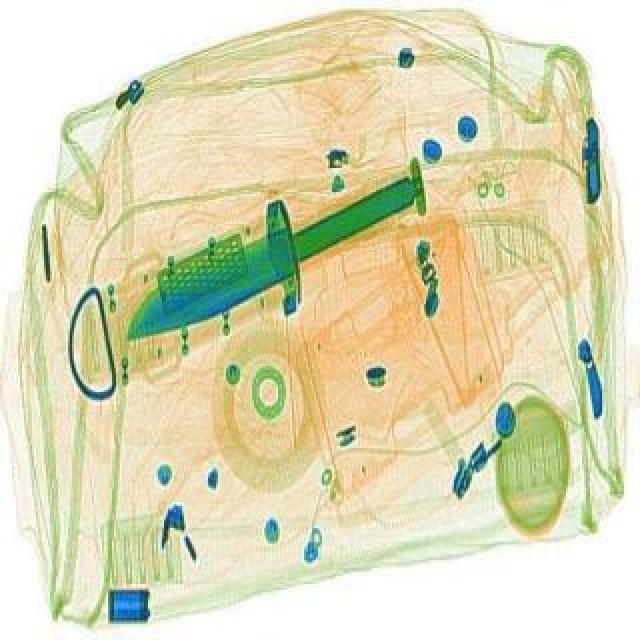knife: (92, 132, 470, 392)
